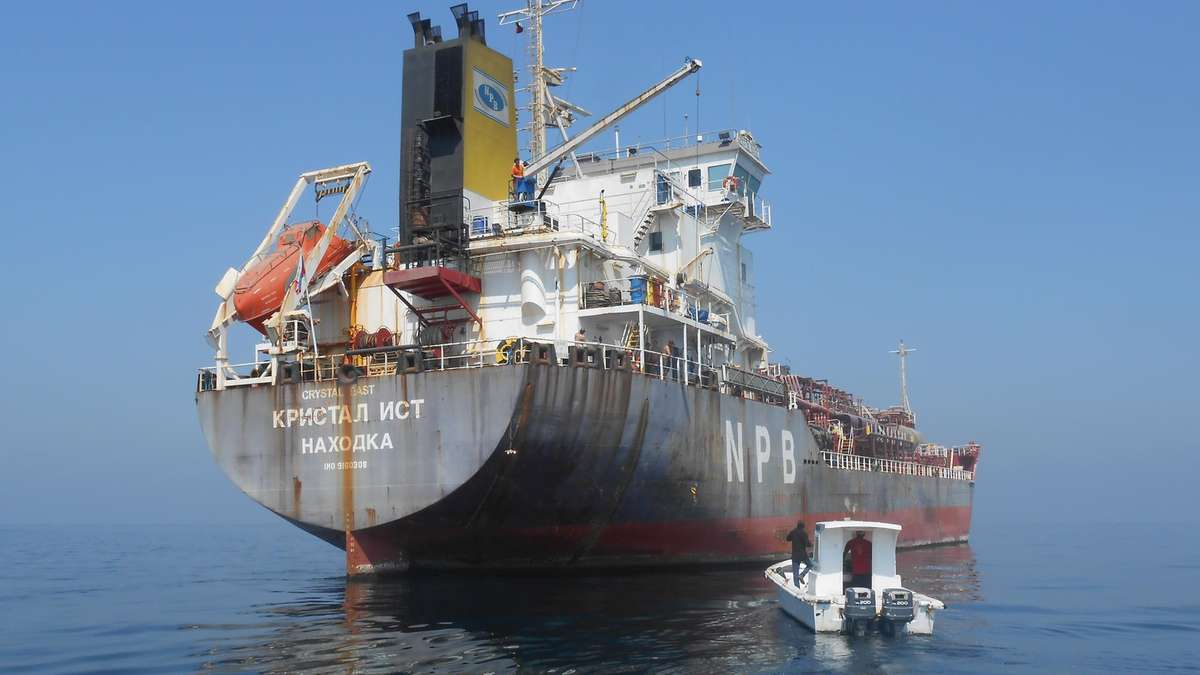rust: (524, 370, 654, 471), (328, 389, 373, 546)
